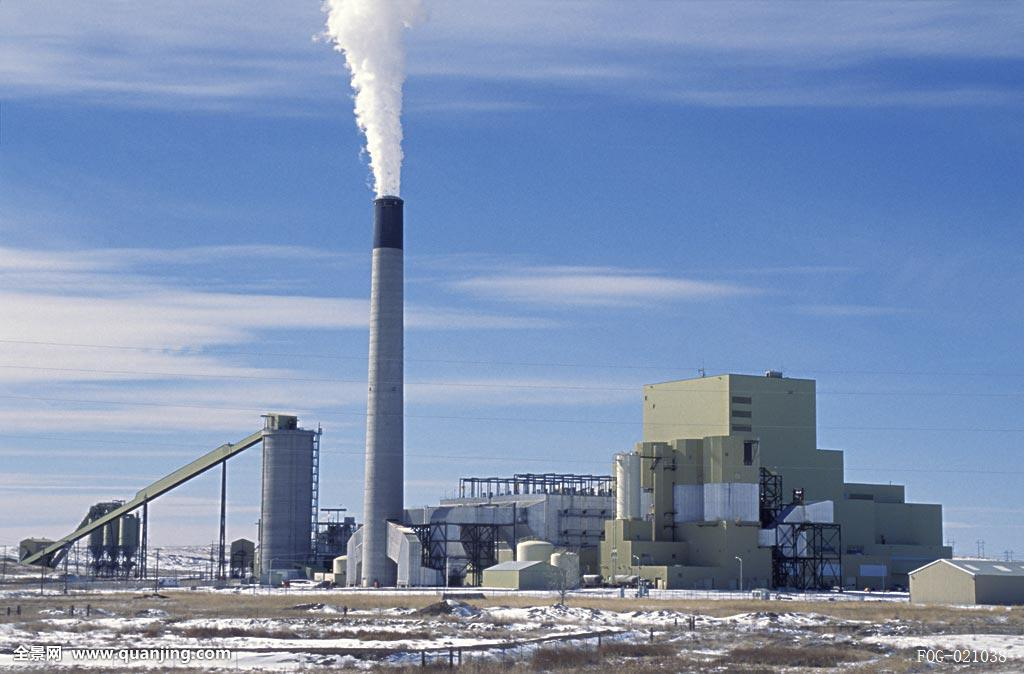dust: (307, 9, 448, 205)
